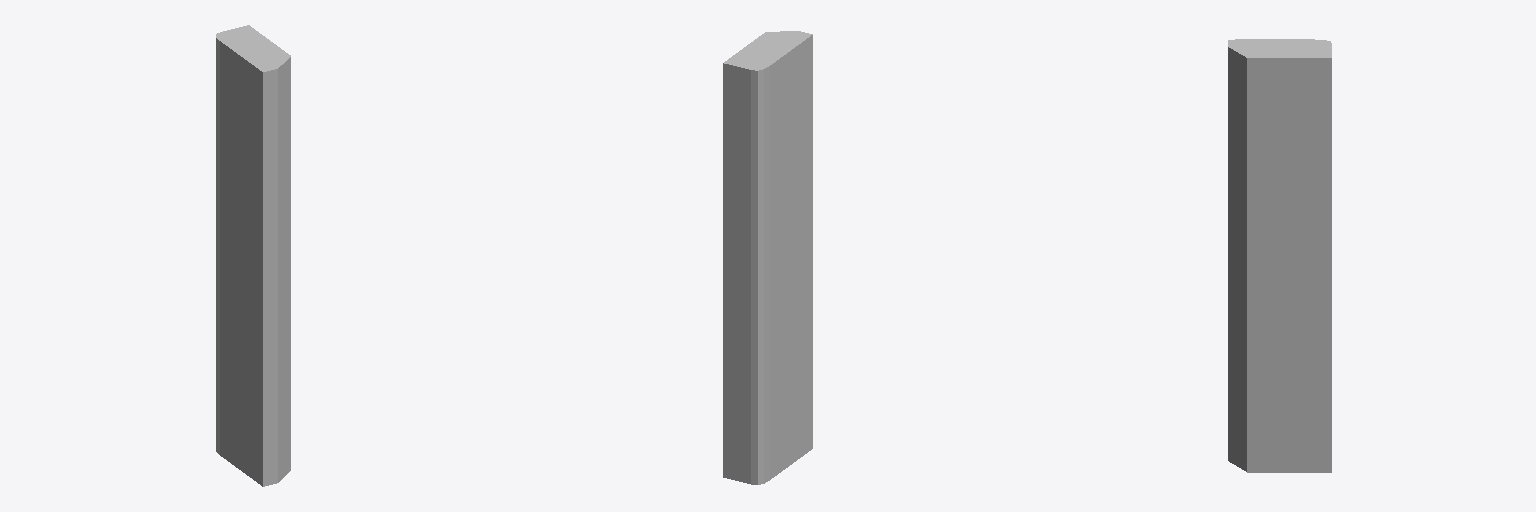
The model's file is Cart_pocket_collision_13.obj.
3 views of the same model, side by side, from view 1: azimuth 30°, elevation 25°; view 2: azimuth 150°, elevation 25°; view 3: azimuth 270°, elevation 25° (orthographic).
Size of the model in its own units: 0.0344 by 0.358 by 0.0814.